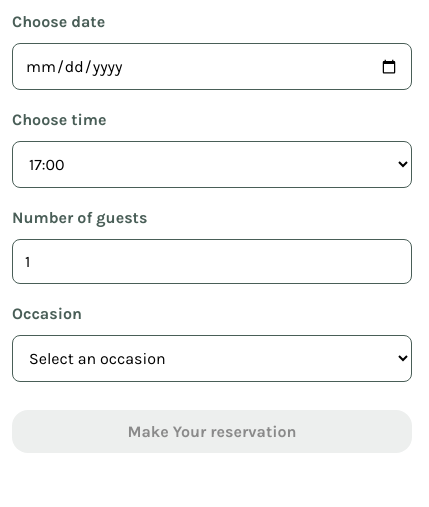
Test: React form validation › date: shows an error for a past date (invalid)
Type "2000-01-01" into the date field labelled "Choose date".
click(212, 66); type("2000-01-01")  # box [12,43,412,90]
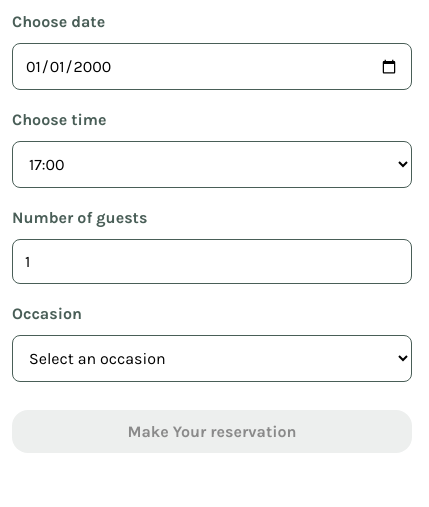
Leave the date field labelled "Choose date", box [12,43,412,90]
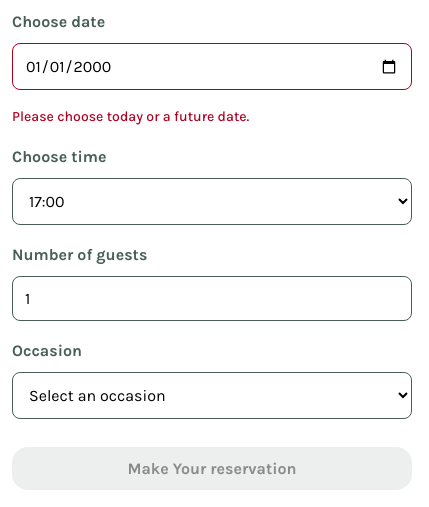
Now the text "Please choose today or a future date." is shown, box [12,108,249,125]
